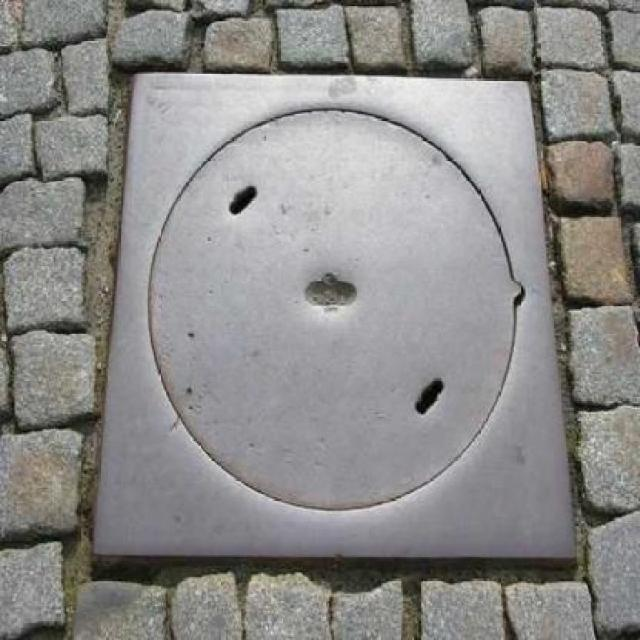Manhole: (88, 56, 606, 613)
